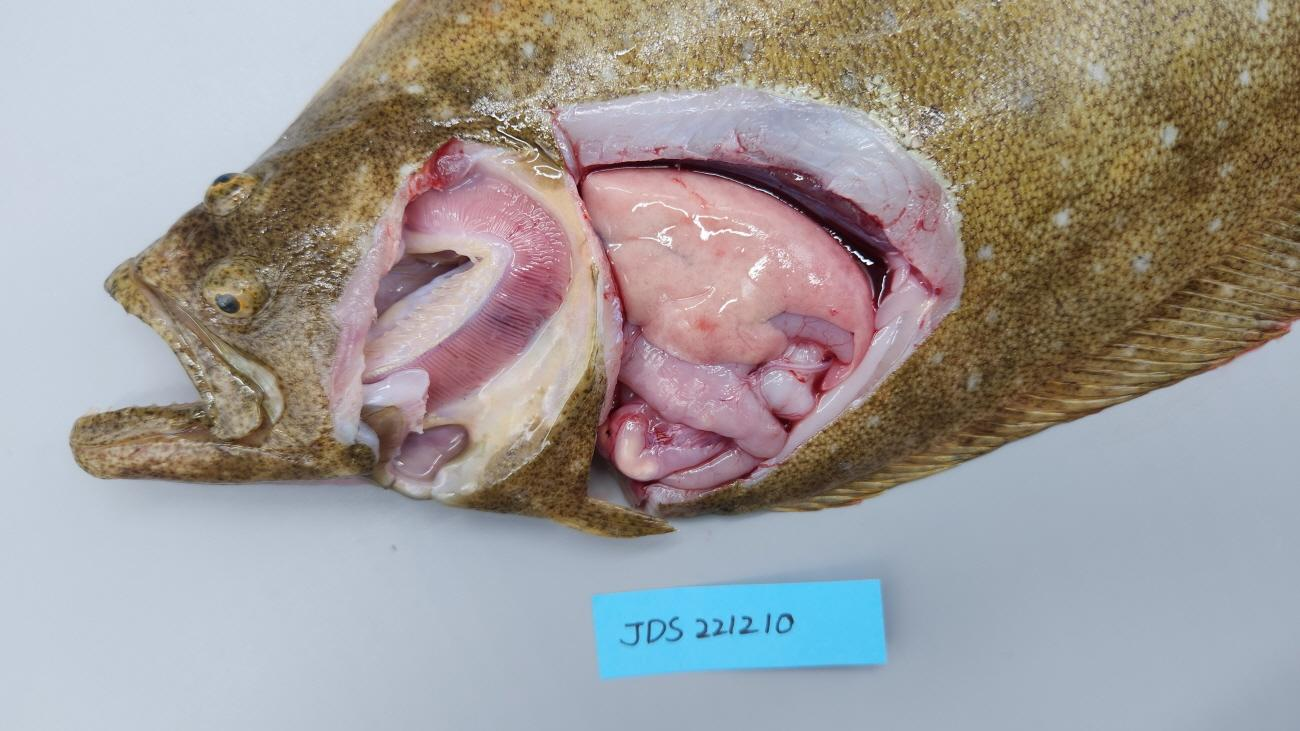SPLIC: (671, 312, 727, 363)
